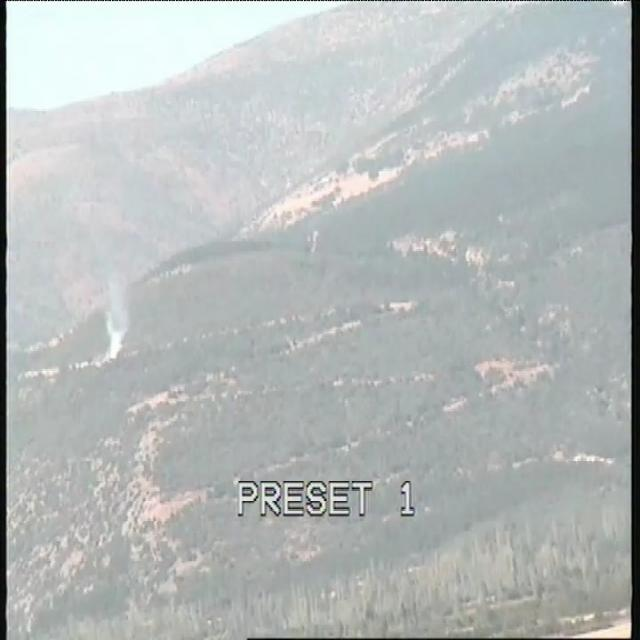smoke: (96, 264, 136, 363)
